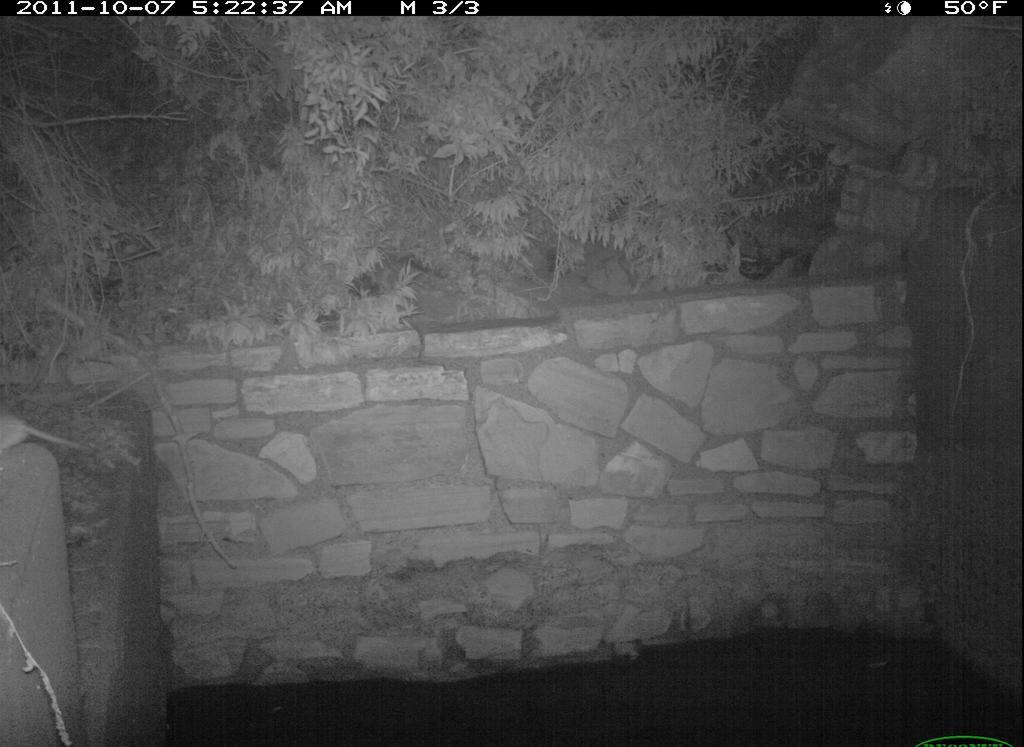rodent: (1, 408, 102, 458)
